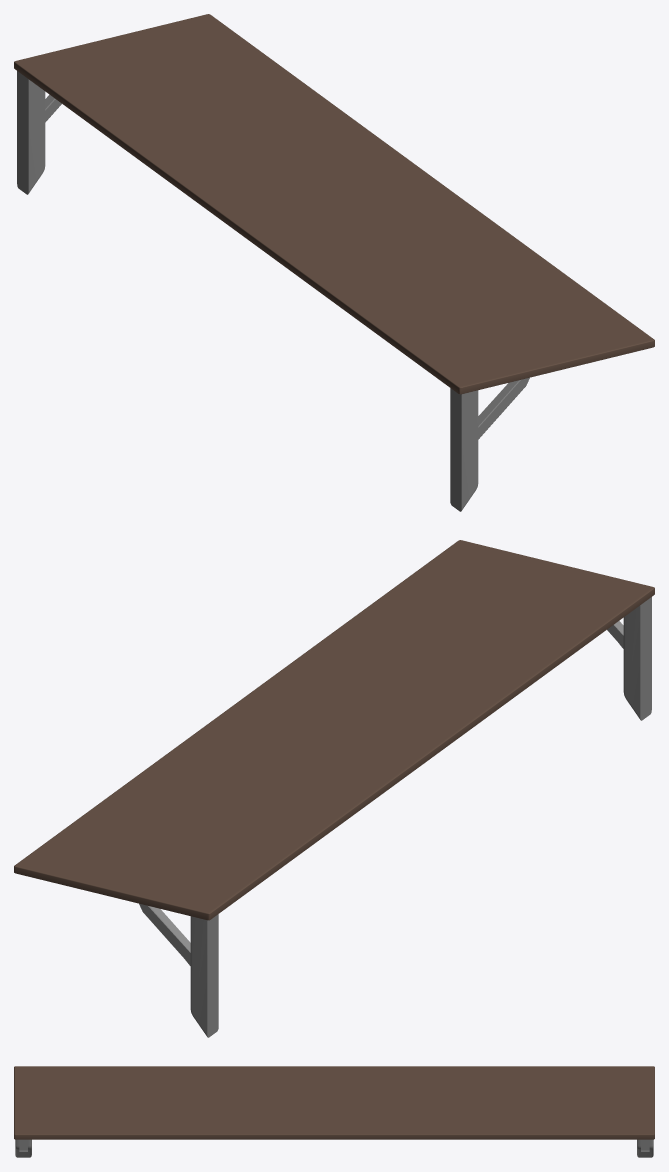
Rendered from wall shelf long.fbx.
3 renders of one model, top to bottom at view 1: azimuth 30°, elevation 25°; view 2: azimuth 150°, elevation 25°; view 3: azimuth 270°, elevation 25°, orthographic. The views are drawn at different scales.
Parts seen in each view (by area): view 1: pCube10; view 2: pCube10; view 3: pCube10.
Boxes of the visible parts, x1,y1,x2,y2 form: pCube10: [14, 14, 654, 511]; pCube10: [14, 540, 654, 1037]; pCube10: [14, 1066, 654, 1157].
Size of the model in its own units: 2.04 by 1.25 by 8.02.
